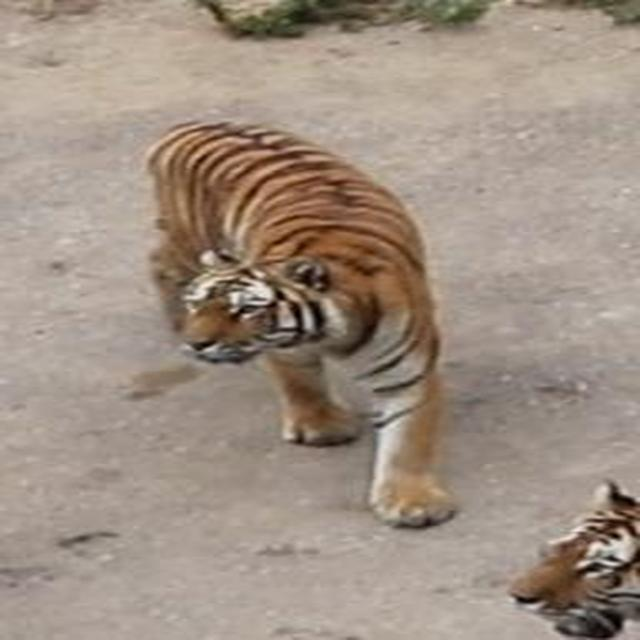tiger: (138, 116, 460, 529), (506, 476, 639, 639)
